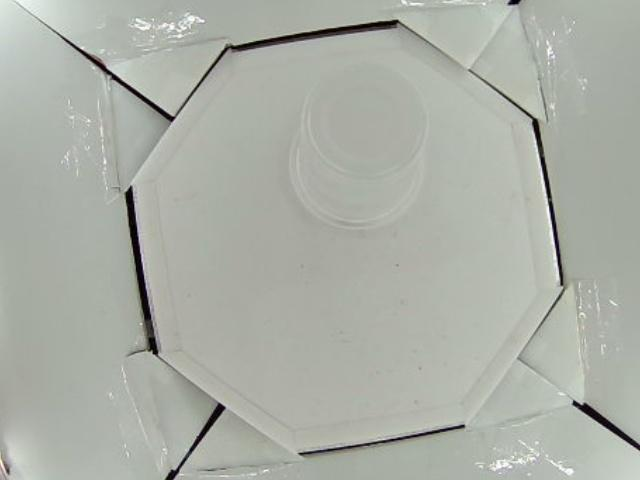Cup: (292, 62, 428, 226)
